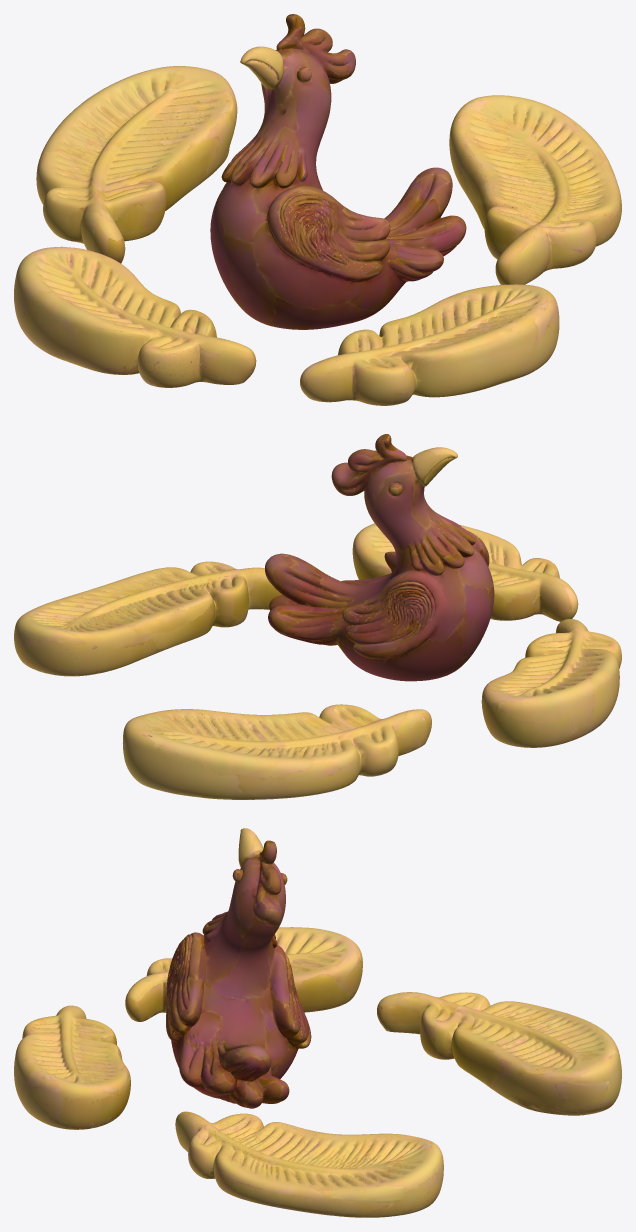
The model's file is yellow_deco.glb.
3 views of the same model, one above another, from view 1: azimuth 30°, elevation 25°; view 2: azimuth 150°, elevation 25°; view 3: azimuth 270°, elevation 25° (orthographic). The views are drawn at different scales.
Visible parts, largest first — view 1: convert; view 2: convert; view 3: convert.
Boxes of the visible parts, x1,y1,x2,y2 form: convert: (14, 14, 621, 405); convert: (14, 434, 621, 799); convert: (14, 828, 621, 1217).
Size of the model in its own units: 1.08 by 0.4661 by 1.11.
1 material, 1 textured.
